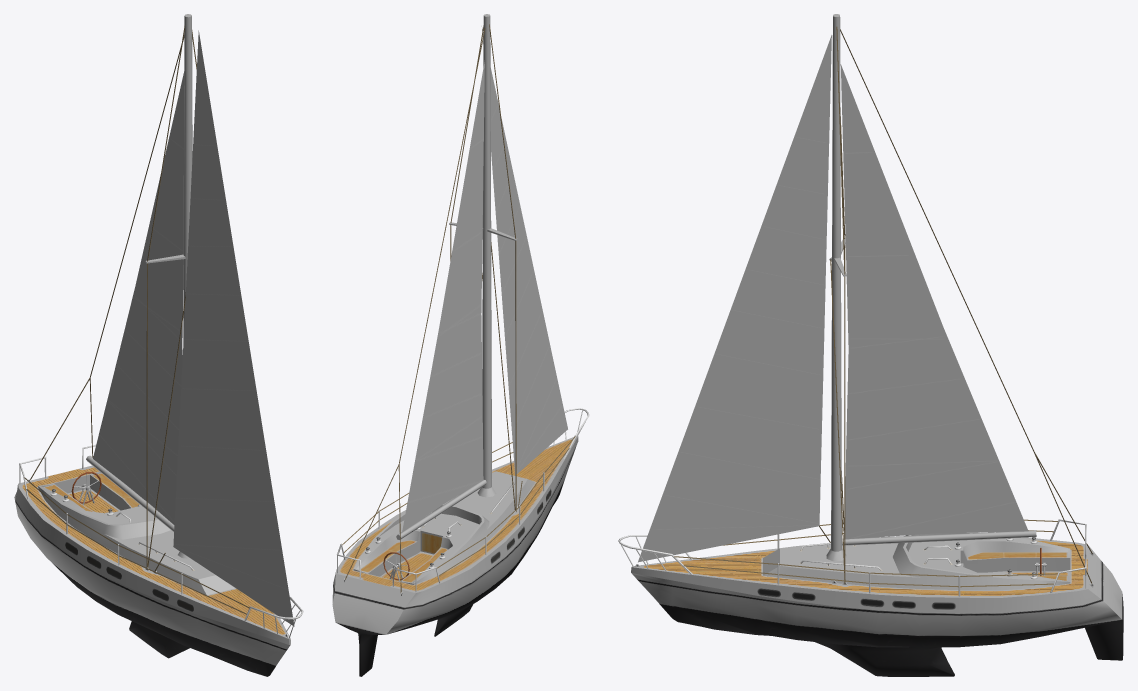
The model's file is boat.glb.
3 views of the same model, side by side, from view 1: azimuth 30°, elevation 25°; view 2: azimuth 150°, elevation 25°; view 3: azimuth 270°, elevation 25° (orthographic). The views are drawn at different scales.
Parts seen in each view (by area): view 1: jib, hull, mainsailcloth, sails, mainsail; view 2: hull, mainsailcloth, jib, sails, mainsail, rudder; view 3: hull, jib, mainsailcloth, sails, mainsail, rudder.
Part boxes in pixels (x1,y1,x2,y2): jib: (173,30,294,626); hull: (14,25,303,676); mainsailcloth: (93,71,184,524); sails: (146,14,192,340); mainsail: (86,455,174,531); hull: (332,24,589,636); mainsailcloth: (402,60,484,532); jib: (481,26,567,475); sails: (449,14,517,488); mainsail: (396,480,486,539); rudder: (358,634,377,676); hull: (618,26,1123,676); jib: (638,35,831,562); mainsailcloth: (840,64,1028,539); sails: (831,14,846,551); mainsail: (842,530,1036,545); rudder: (1085,614,1123,660).
Bounding box in the file's own units: 2.53 × 12.2 × 8.45.
Materials: 1 (1 with a texture image).
